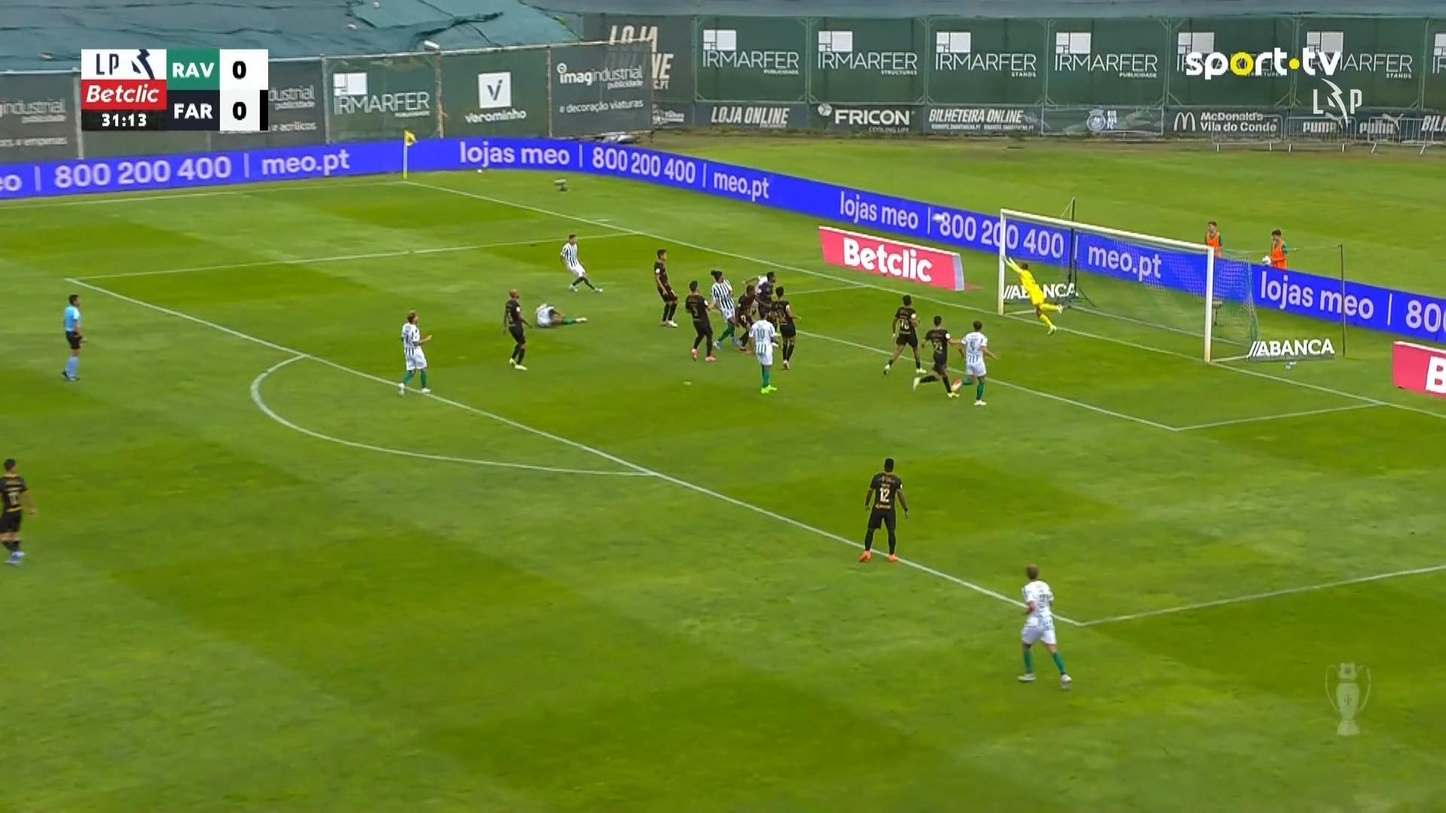ball: (934, 213, 944, 227)
goalkeeper: (1003, 253, 1064, 336)
player: (1016, 563, 1072, 687), (858, 456, 910, 562), (952, 318, 998, 406), (911, 314, 959, 398), (0, 457, 36, 565), (882, 294, 927, 376), (743, 307, 781, 394), (396, 309, 432, 396), (709, 269, 743, 349), (770, 284, 801, 370), (683, 279, 715, 361), (559, 233, 602, 293), (502, 288, 530, 370), (653, 248, 679, 327), (534, 303, 587, 327)
referee: (61, 293, 85, 381)
